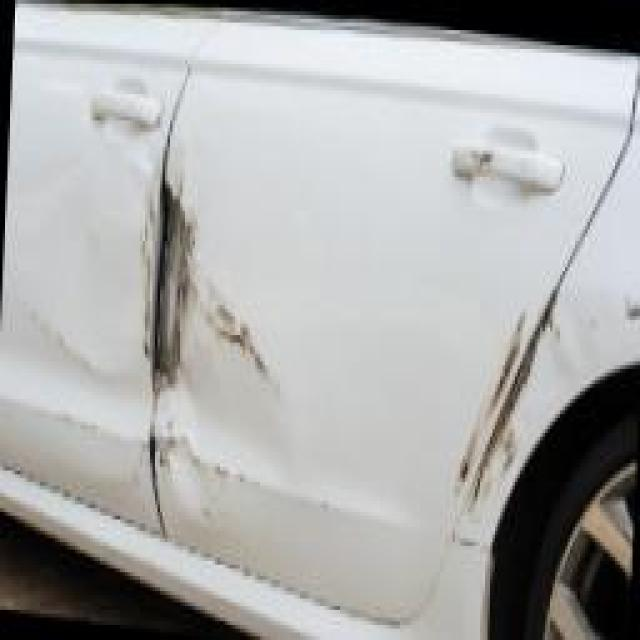Door: (151, 126, 574, 598), (119, 153, 159, 409)
Fender: (452, 264, 640, 542)
